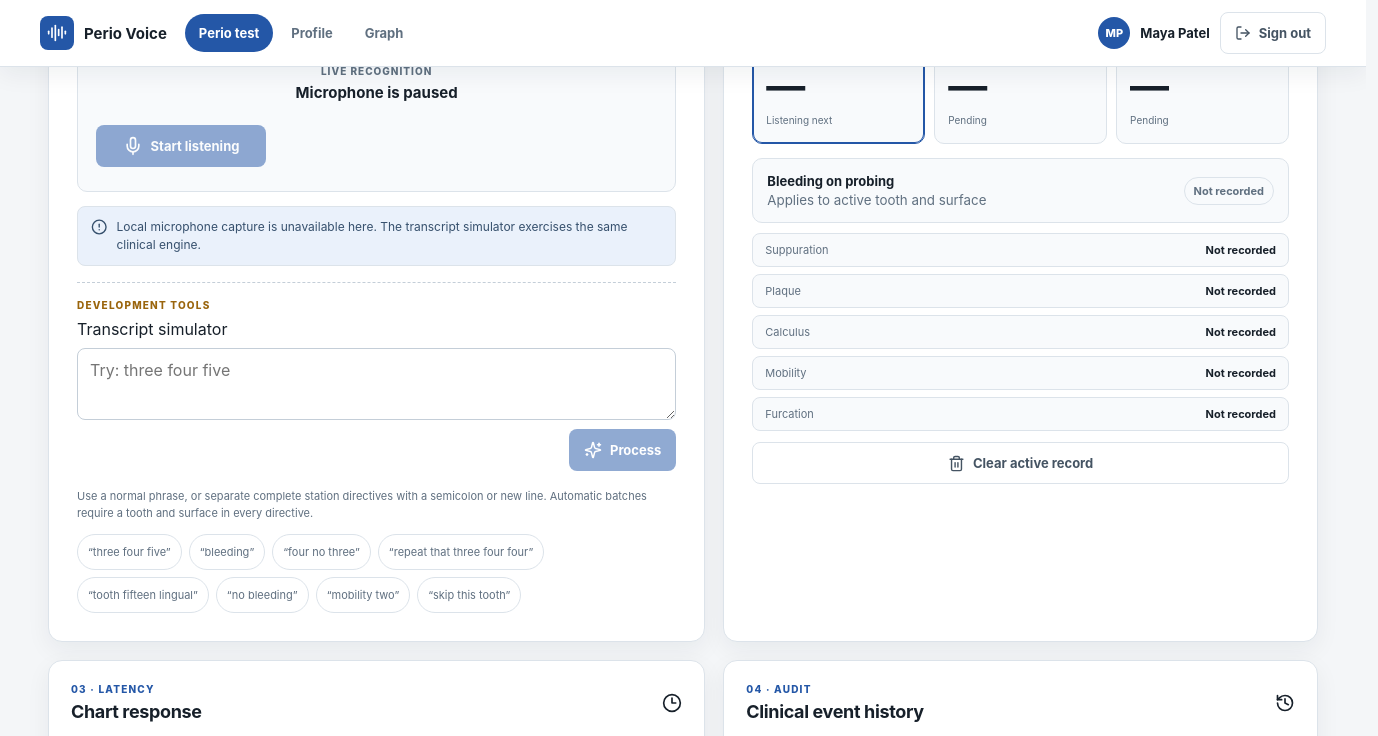
Test: decision trace › explains why a value was accepted
(page scrolled)
Type "to for ate" into the text box labelled "Transcript simulator".
click(377, 384); type("to for ate")  # box [77, 348, 676, 420]
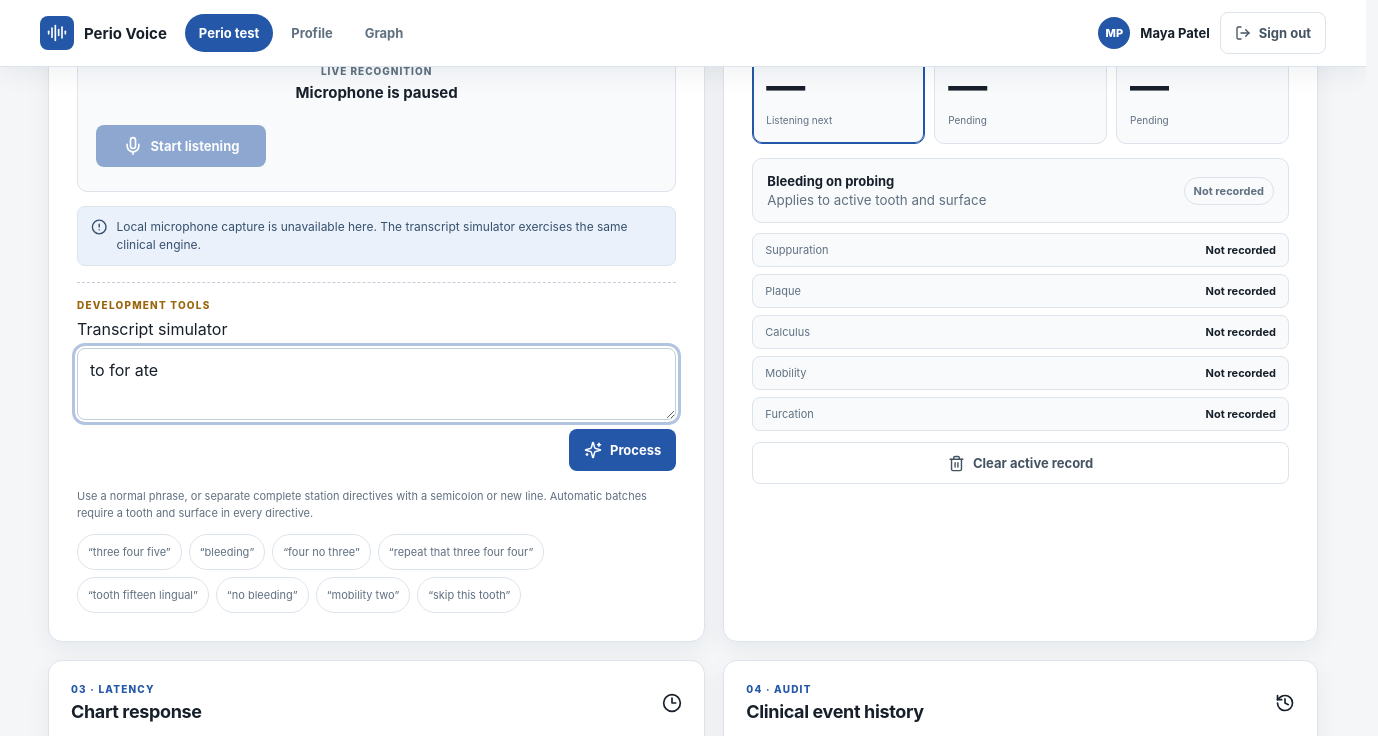
Click the button "Process".
click(623, 450)  # box [569, 430, 676, 472]
(page scrolled)
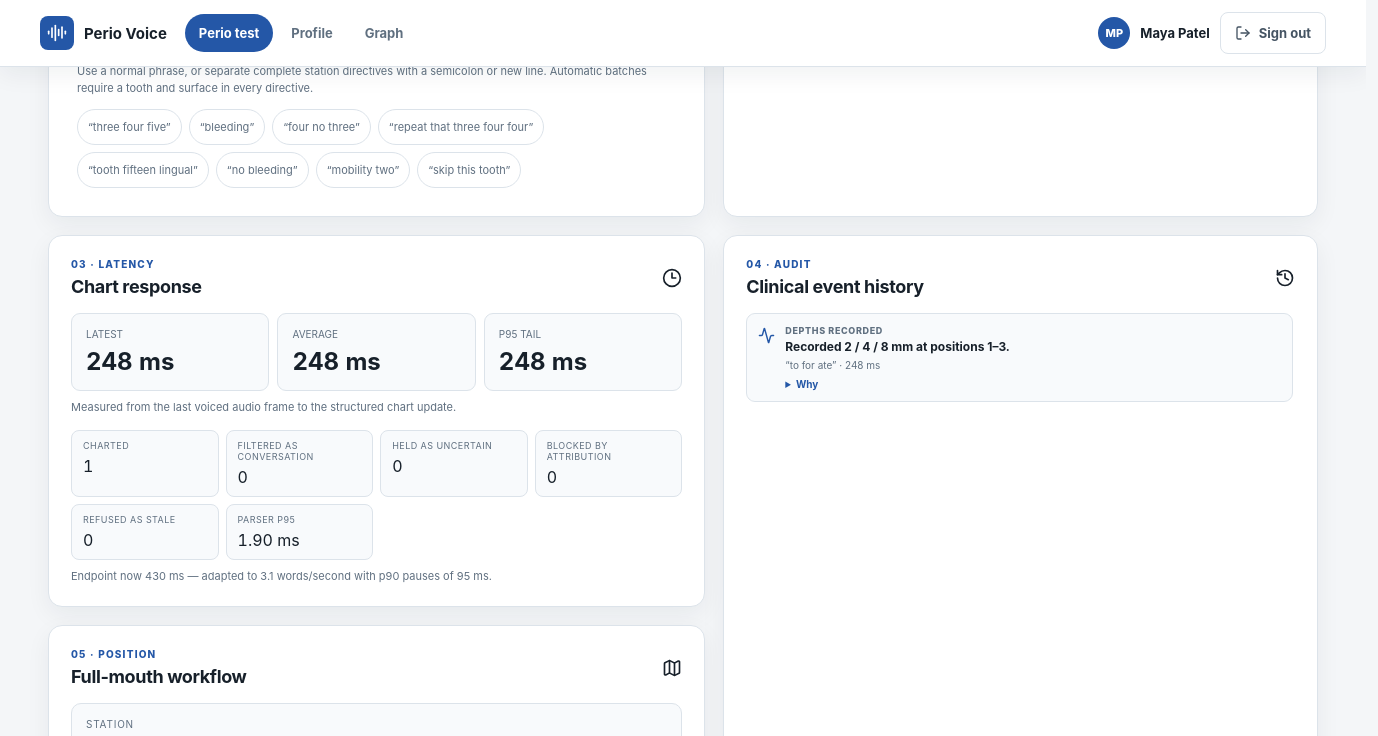
Click the heading "Why".
click(807, 384)  # box [796, 378, 818, 390]
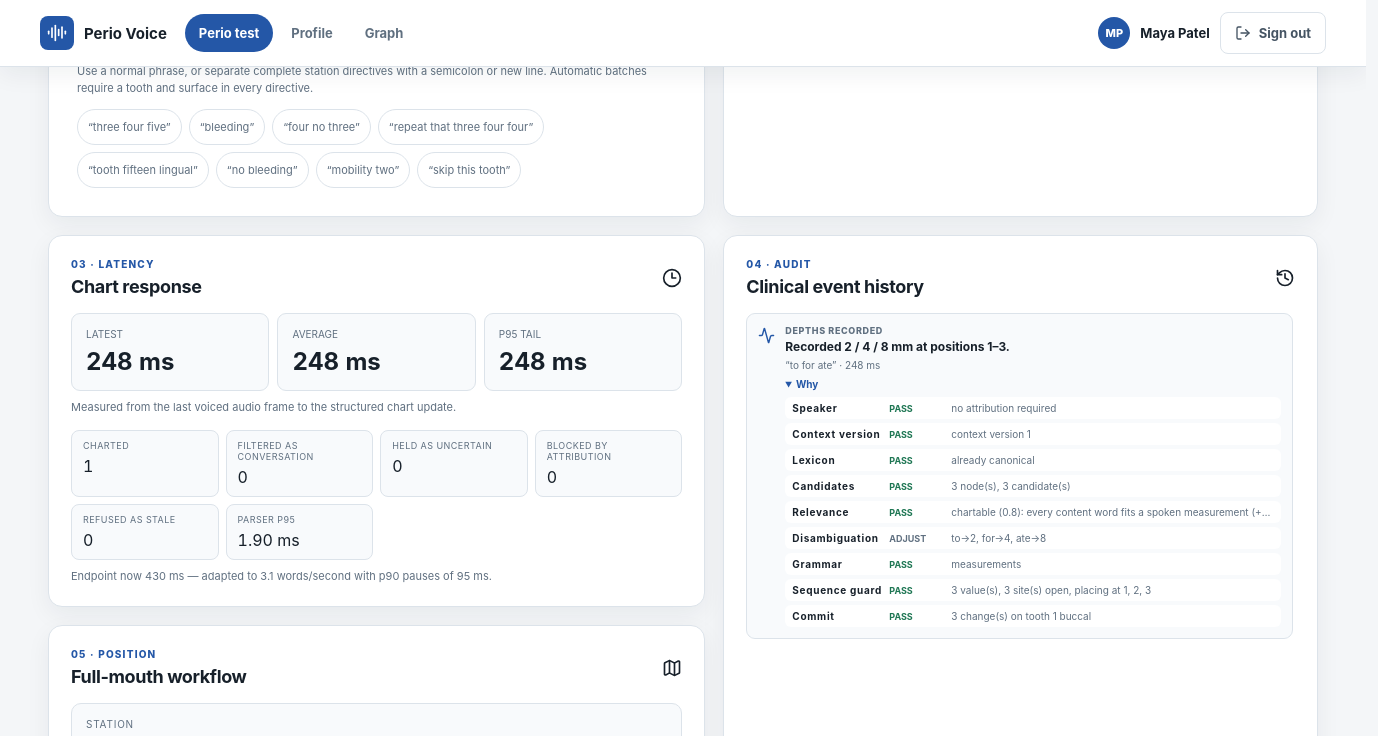
Expected: the text "Disambiguation" is shown, [792, 532, 882, 544]
Expected: the text "to→2, for→4, ate→8" is shown, [951, 532, 1046, 544]
